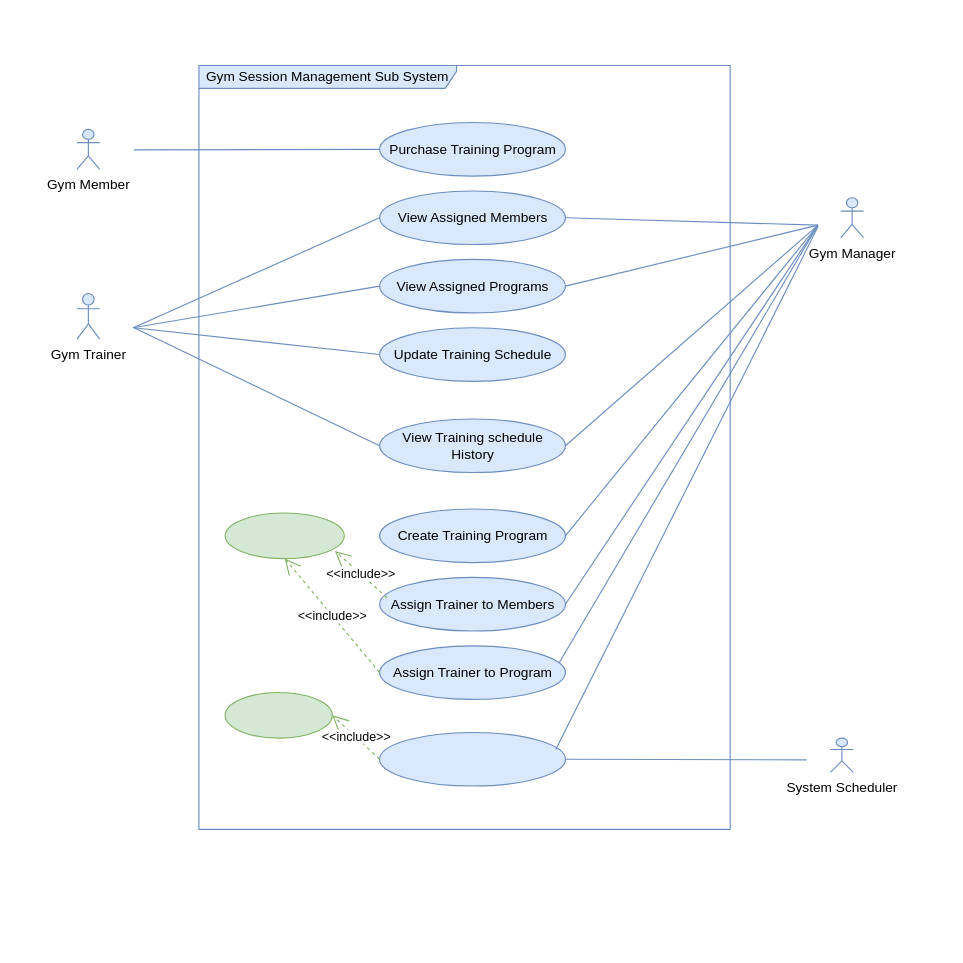
Image size: 963x963. Some labels were removed from this diagram. Here are the shapes that lost their labels. From the top down, the centre of each, then its label:
[284,535]: Send Notification
[278,714]: Check Capacity
[471,758]: Close Program Registration
